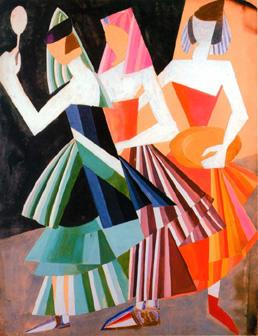person: (1, 21, 177, 335), (87, 5, 228, 331), (135, 1, 258, 334)
